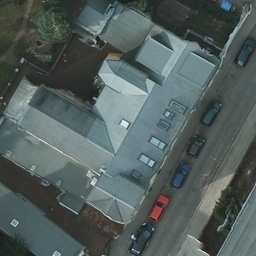car: (233, 35, 255, 68), (148, 192, 169, 223), (130, 225, 151, 256), (170, 160, 191, 191), (200, 100, 222, 127), (186, 133, 204, 158), (185, 1, 219, 5)
